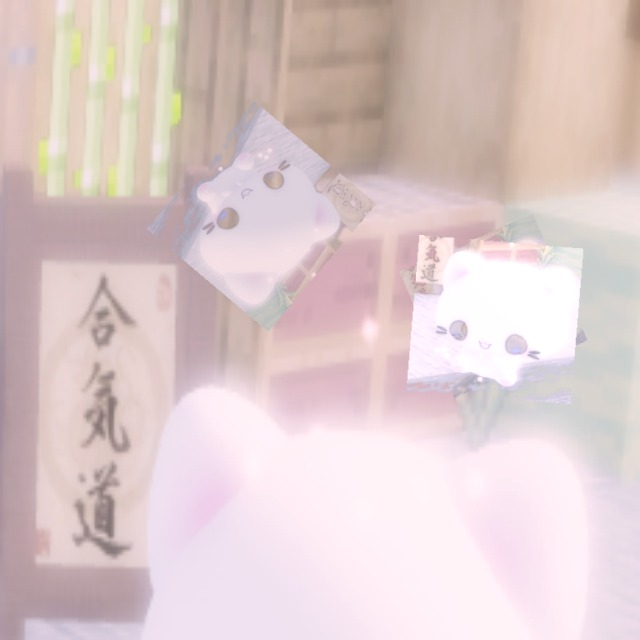urso_branco: (146, 101, 377, 332), (399, 214, 588, 398), (406, 235, 584, 404)
urso_preto: (253, 229, 300, 275)
